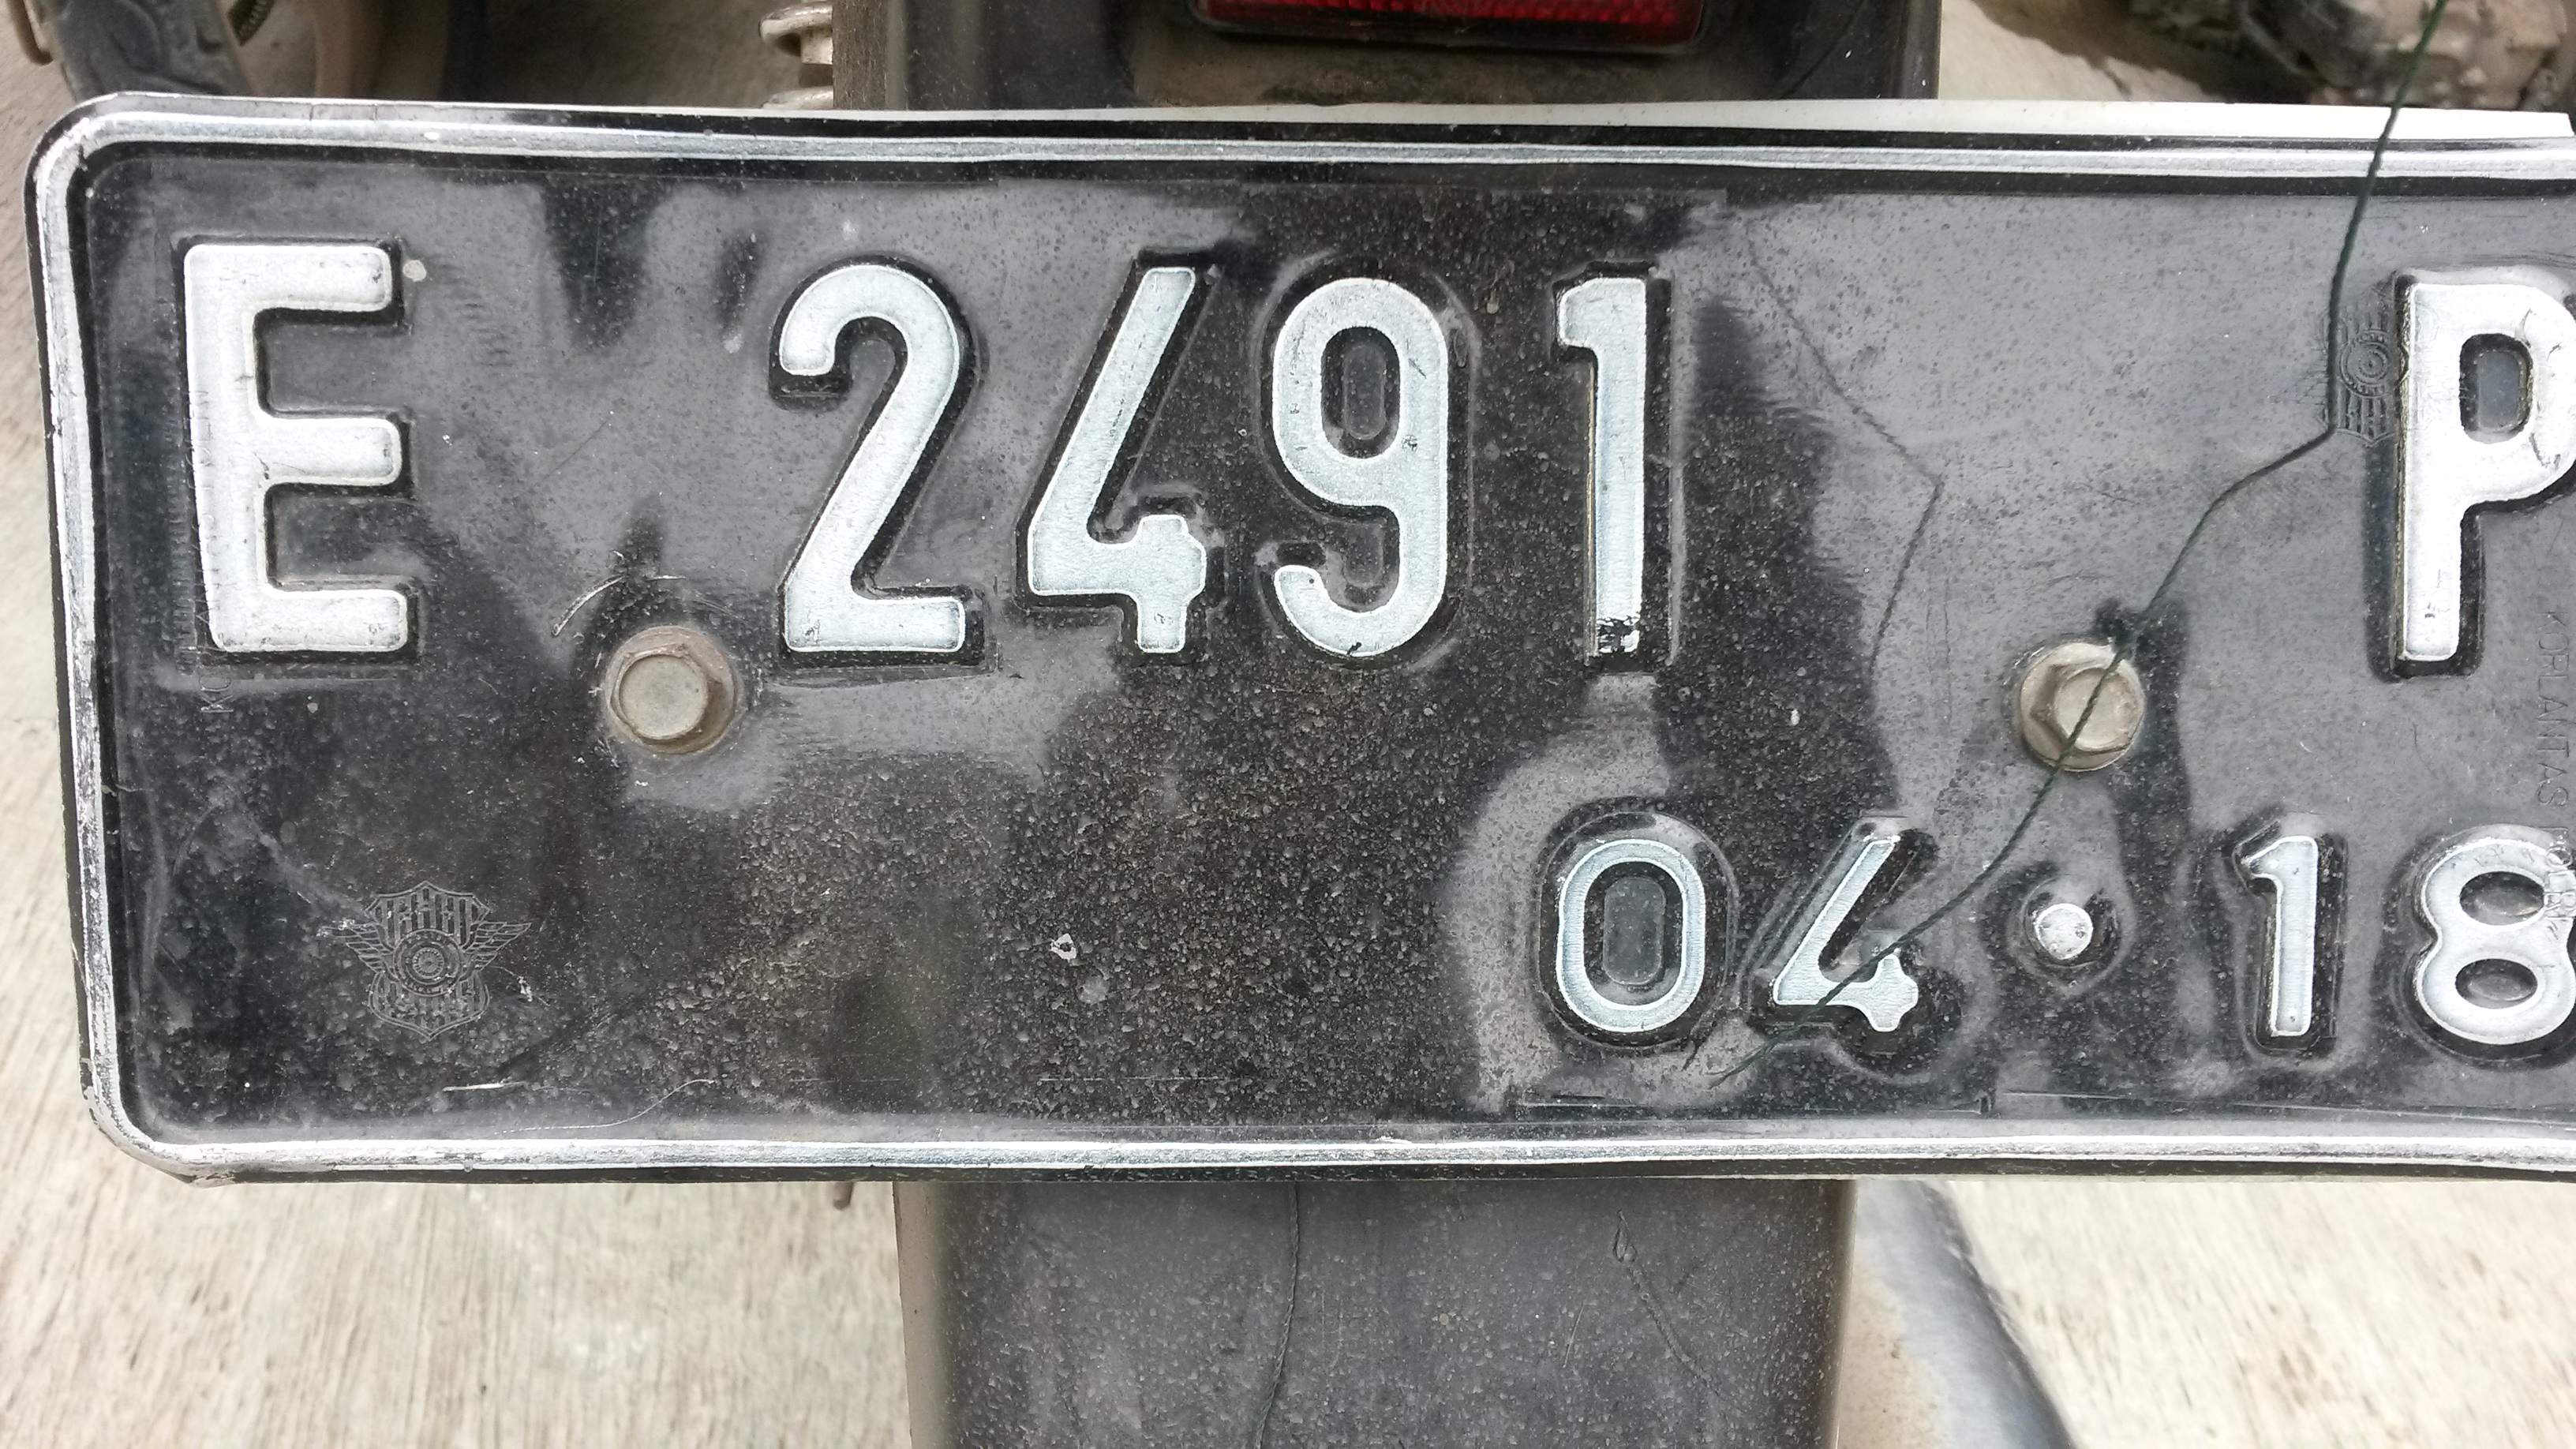plate: (25, 91, 2576, 1185)
